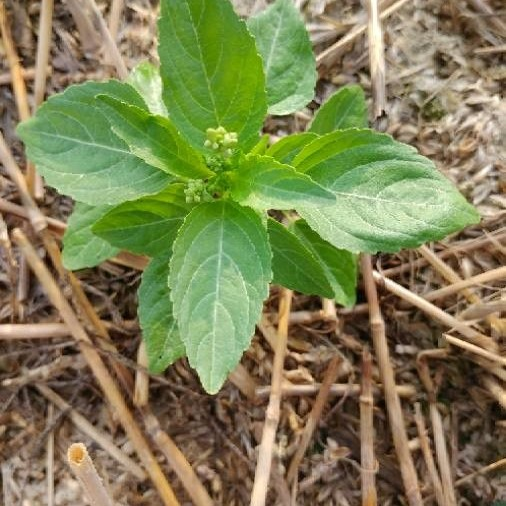obstacle: (12, 10, 493, 396)
